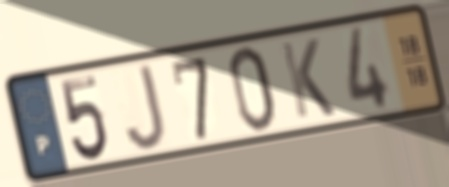0: (225, 42, 279, 135)
4: (345, 24, 393, 114)
5: (57, 72, 110, 162)
7: (168, 54, 211, 143)
J: (123, 60, 169, 153)
K: (277, 35, 339, 122)
